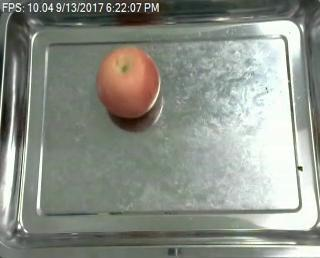apple: (98, 46, 162, 121)
